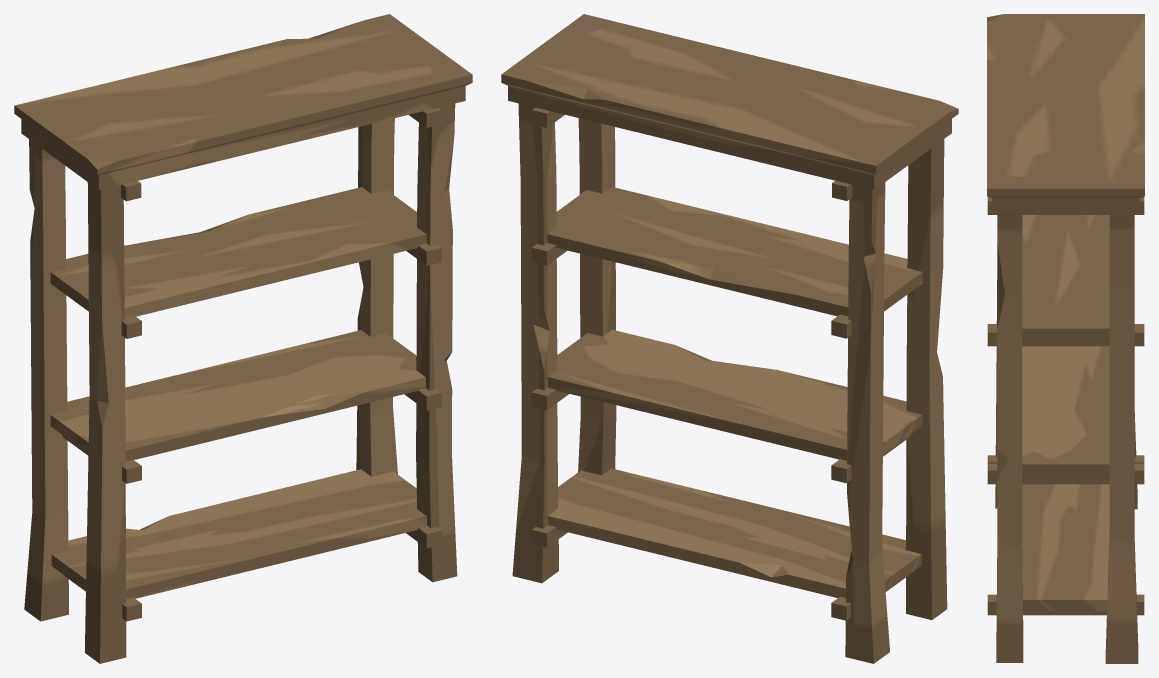
The model's file is SM_Prop_Shelf_05.fbx.
3 renders of one model, left to right at view 1: azimuth 30°, elevation 25°; view 2: azimuth 150°, elevation 25°; view 3: azimuth 270°, elevation 25°, orthographic. The views are drawn at different scales.
Visible parts, largest first — view 1: SM_Prop_Shelf_05; view 2: SM_Prop_Shelf_05; view 3: SM_Prop_Shelf_05.
Boxes of the visible parts, x1=… form: SM_Prop_Shelf_05: x1=14, y1=14, x2=472, y2=663; SM_Prop_Shelf_05: x1=501, y1=14, x2=958, y2=663; SM_Prop_Shelf_05: x1=987, y1=14, x2=1144, y2=663.
Bounding box in the file's own units: 172 × 221 × 65.91.
